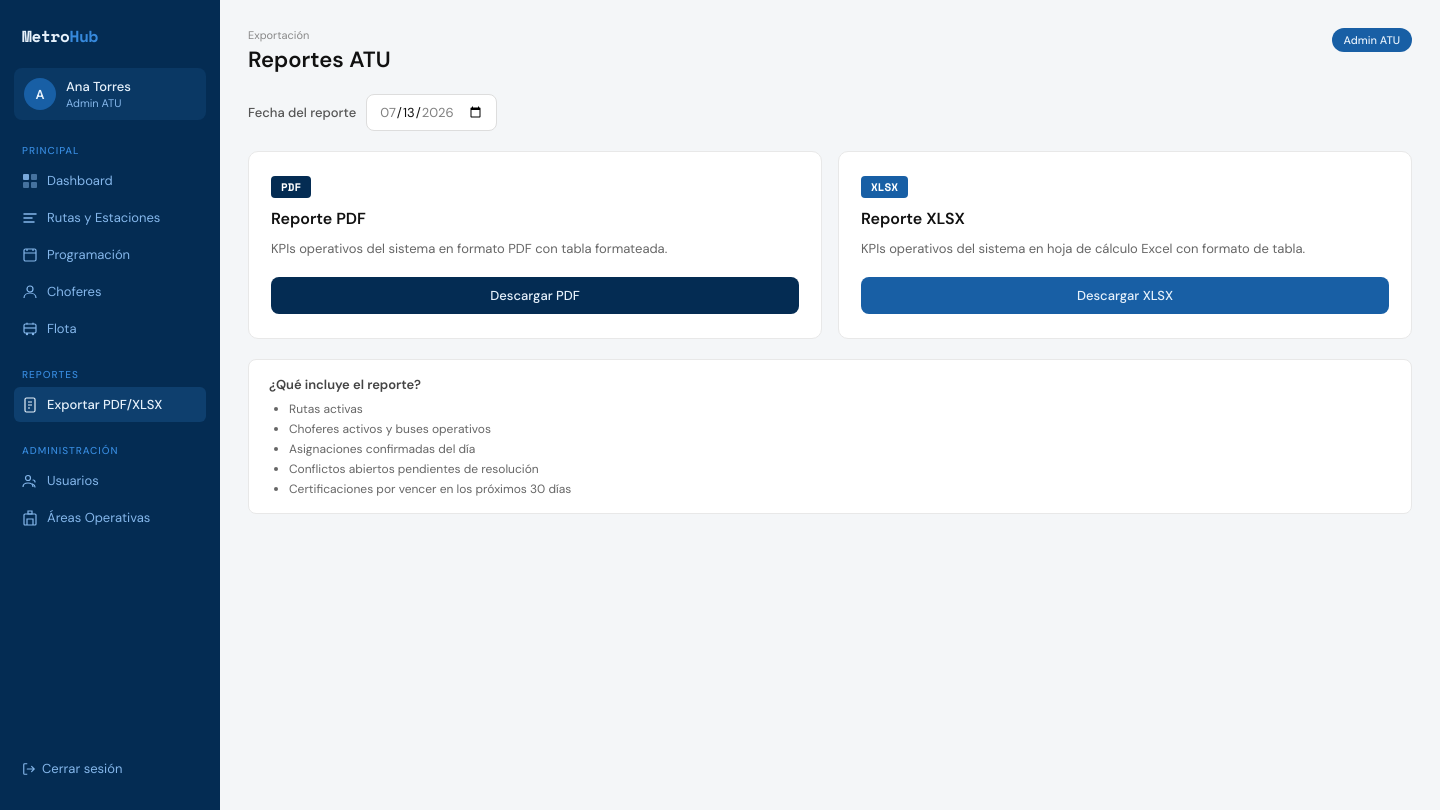
Scenario: Reportes (RF07) › exporta el XLSX y muestra confirmación
Click the button "Descargar XLSX" at (1125, 295), box x1=861 y1=276 x2=1389 y2=314
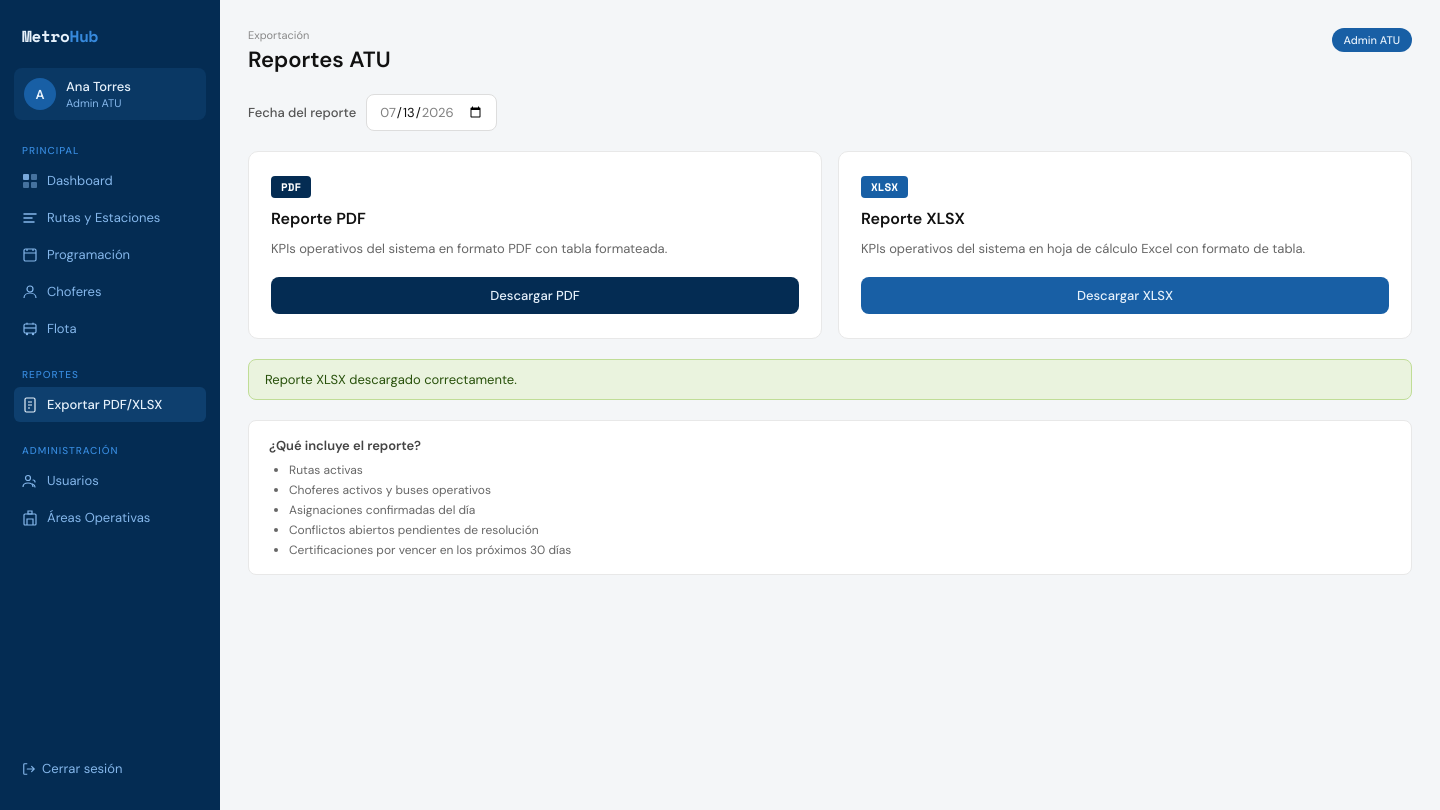
Check: the text "Reporte XLSX descargado correctamente." is shown, box x1=265 y1=370 x2=517 y2=388
